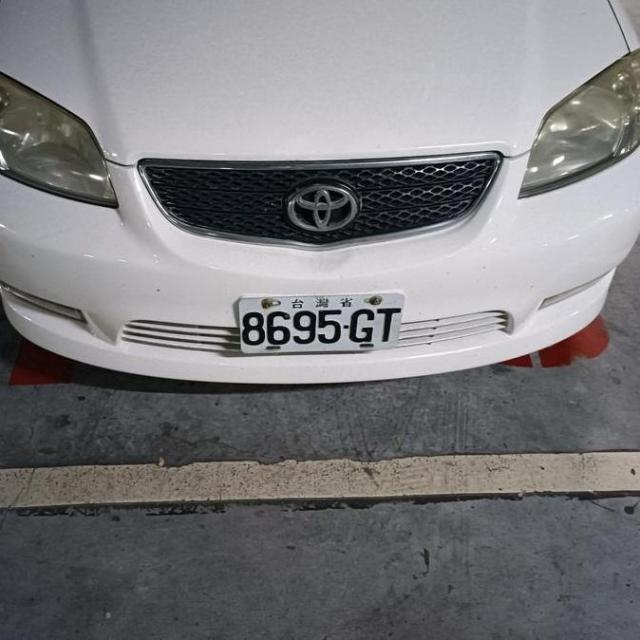W: (221, 268, 416, 371)
